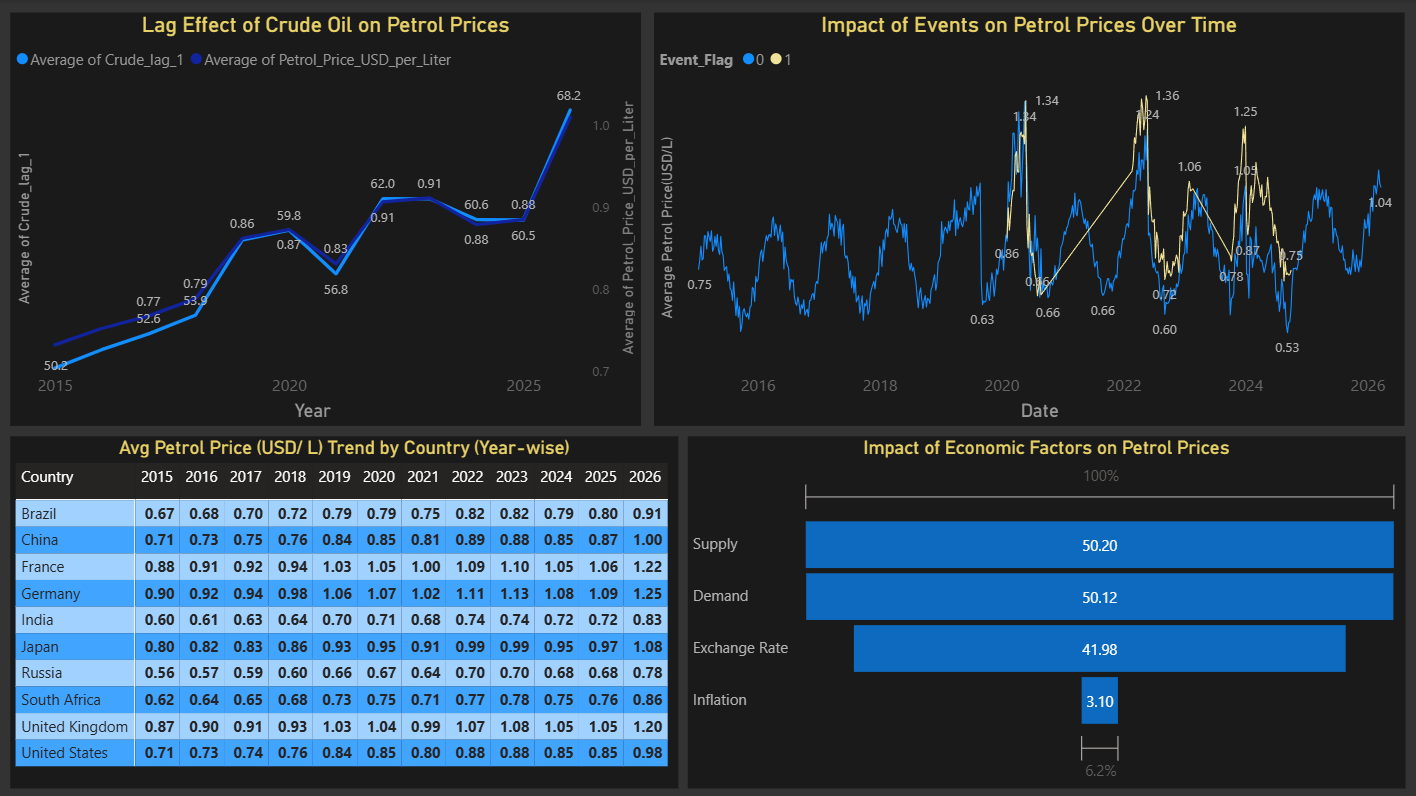

Layout of this report page (visuals, bound fields, positions):
{"tool":"powerbi","page":{"name":"Page 4","canvas":[1280,720],"ordinal":3},"visuals":[{"type":"lineChart","title":"Lag Effect of Crude Oil on Petrol Prices","fields":{"Y":["Avg(price_metrics_table_v2.Crude_lag_1)"],"Y2":["Avg(price_metrics_table_v2.Petrol_Price_USD_per_Liter)"],"Category":["Date.Date.Variation.Date Hierarchy.Year","Date.Date.Variation.Date Hierarchy.Quarter","Date.Date.Variation.Date Hierarchy.Month","Date.Date.Variation.Date Hierarchy.Day"]},"box":[10,11.2,568.5,373.2],"z":0},{"type":"pivotTable","title":"Avg Petrol Price (USD/ L) Trend by Country (Year-wise)","fields":{"Rows":["country_table_v2.Country"],"Columns":["Date.Date.Variation.Date Hierarchy.Year","Date.Date.Variation.Date Hierarchy.Quarter","Date.Date.Variation.Date Hierarchy.Month","Date.Date.Variation.Date Hierarchy.Day"],"Values":["Avg(price_metrics_table_v2.Petrol_Price_USD_per_Liter)"]},"box":[10,393.1,602.1,317.2],"z":1000},{"type":"lineChart","title":"Impact of Events on Petrol Prices Over Time","fields":{"Y":["Avg(price_metrics_table_v2.Petrol_Price_USD_per_Liter)"],"Series":["events_table_v2.Event_Flag"],"Category":["Date.Date"]},"box":[590.9,11.2,676.7,373.2],"z":2000},{"type":"funnel","title":"Impact of Economic Factors on Petrol Prices","fields":{"Category":["Table (2).Factor"],"Y":["Table (2).Factor_Impact"]},"box":[620.7,393.1,646.9,317.2],"z":3000}]}

Visuals, with their boxes in screenshot pixels (x1, y1, x2, y2), scaled from the page's 1280x720 canvas onto the 1416x796 screenshot:
"Lag Effect of Crude Oil on Petrol Prices" lineChart: bbox(11, 12, 640, 425)
"Avg Petrol Price (USD/ L) Trend by Country (Year-wise)" pivotTable: bbox(11, 435, 677, 785)
"Impact of Events on Petrol Prices Over Time" lineChart: bbox(654, 12, 1402, 425)
"Impact of Economic Factors on Petrol Prices" funnel: bbox(687, 435, 1402, 785)
